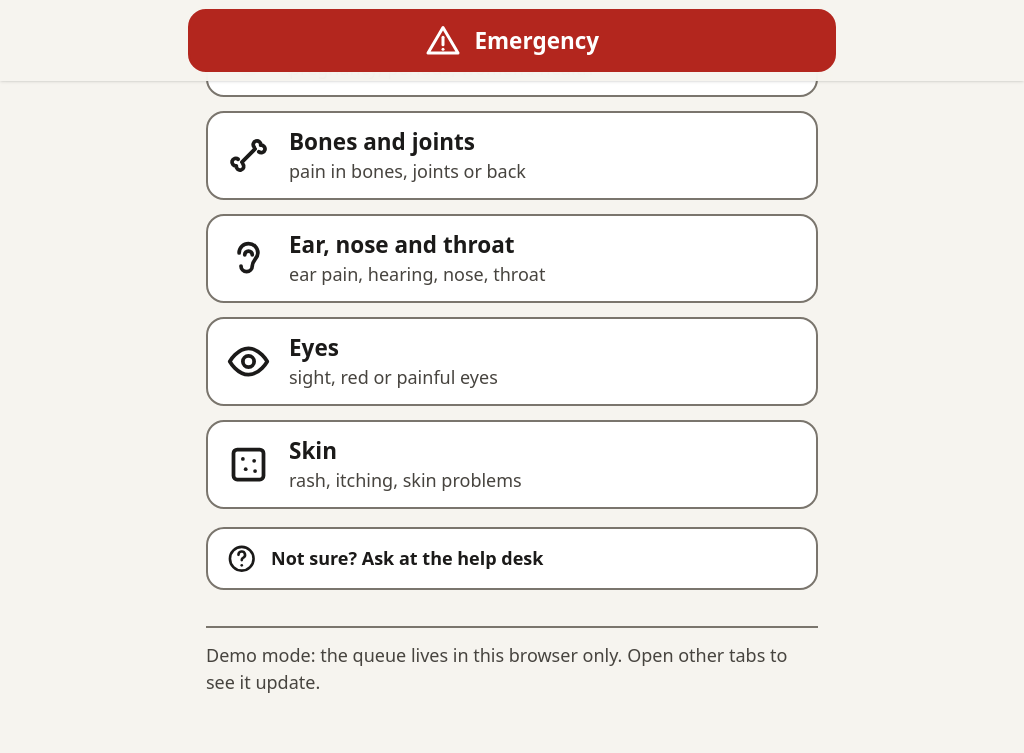
Test: register › shows the way to the Help desk for "Not sure?"
The image size is (1024, 753).
(page scrolled)
What coordinates should you click on to do the following:
click the button "Not sure? Ask at the help desk"
I would click on:
 (512, 559)
Its box is x1=206 y1=527 x2=818 y2=590.
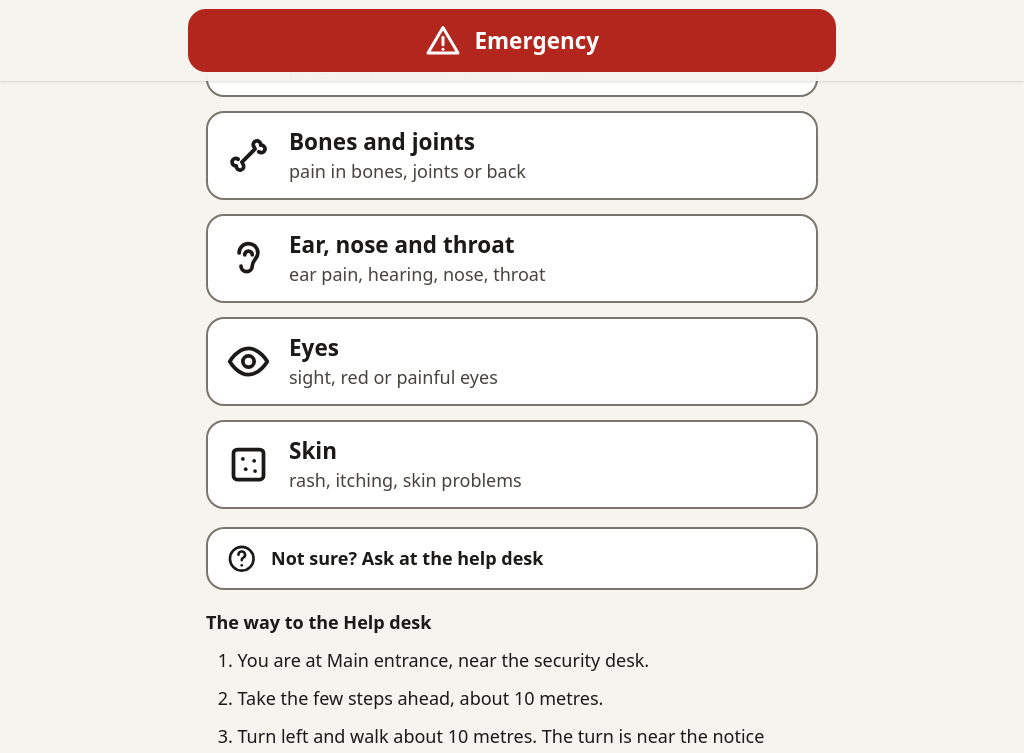
Expected: the text "The way to the Help desk" is shown, x1=206 y1=610 x2=432 y2=634
